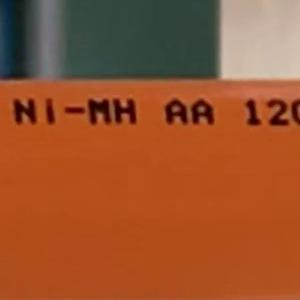keyword: (3, 89, 146, 134)
